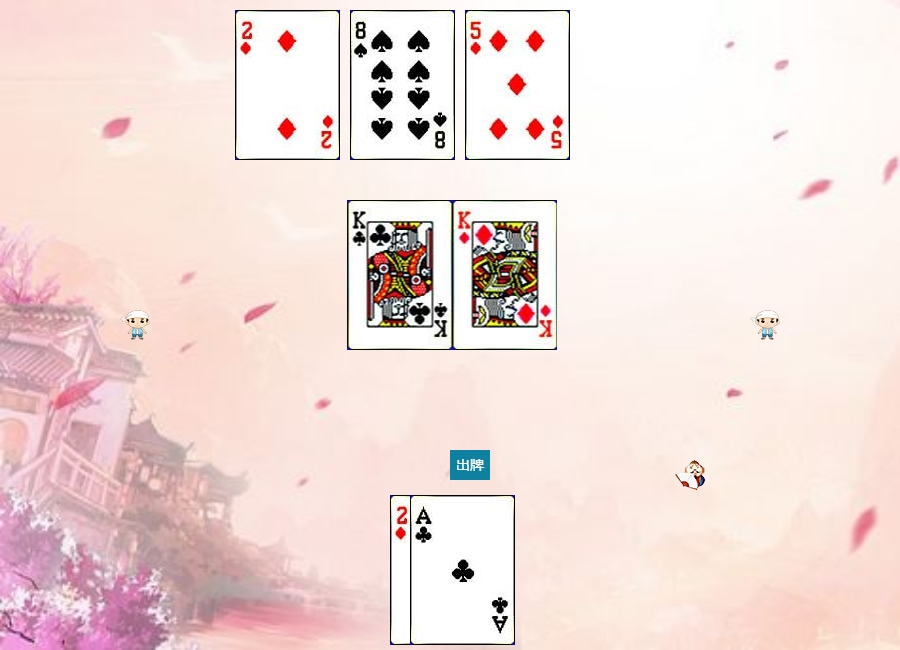13~1: (453, 200, 558, 350)
13~2: (348, 200, 453, 350)
14~2: (410, 495, 515, 645)
15~1: (235, 10, 340, 160), (390, 495, 495, 645)
5~1: (465, 10, 570, 160)
8~4: (350, 10, 455, 160)
